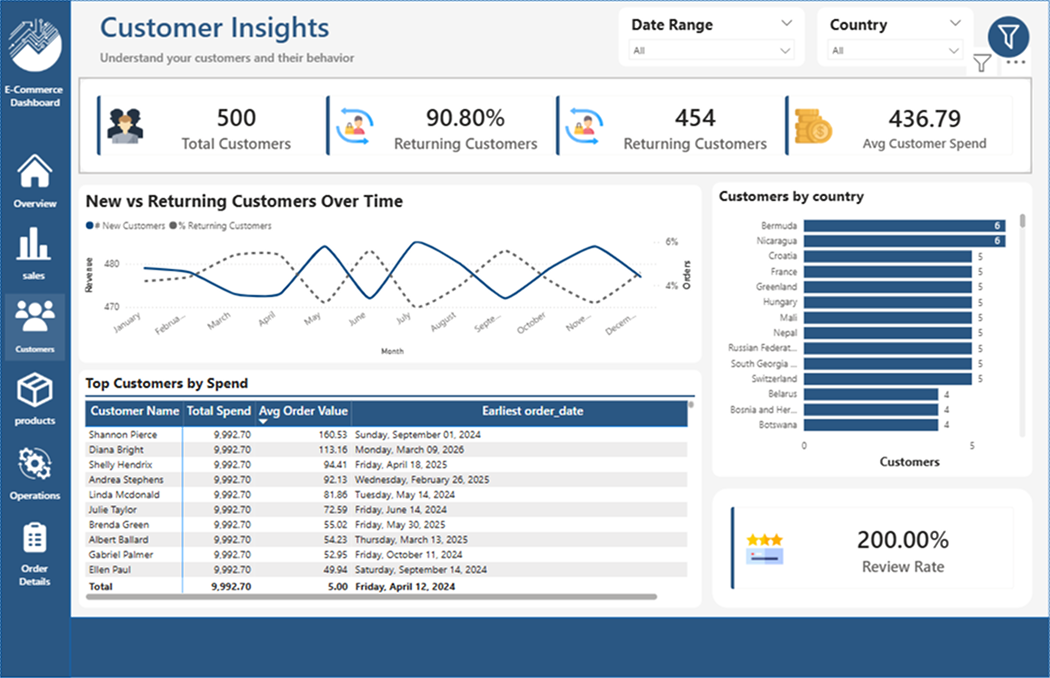

The dashboard page shown, as its layout file describes it:
{"tool":"powerbi","page":{"name":"Customer Insights","canvas":[1400,920],"ordinal":2},"visuals":[{"type":"shape","box":[94,0,1306,824],"z":0},{"type":"image","box":[22.5,492.4,46.7,55.8],"z":0,"group":"g3"},{"type":"image","box":[22.6,590.8,46.7,55.8],"z":0,"group":"g5"},{"type":"image","box":[22.8,688.5,46.7,55.8],"z":0,"group":"g6"},{"type":"textbox","box":[10.8,548.2,70,29.2],"z":1000,"group":"g3"},{"type":"textbox","box":[6.8,647.1,80,29.2],"z":1000,"group":"g5"},{"type":"textbox","box":[12,744,69,51],"z":1000,"group":"g6"},{"type":"shape","box":[94,824,1306,80],"z":1000},{"type":"shape","box":[0,0,94,904],"z":2000},{"type":"lineChart","title":"New vs Returning Customers Over Time","fields":{"Category":["DateTable.Date.Variation.Date Hierarchy.Month"],"Y":["_Measures.# New Customers"],"Y2":["_Measures.% Returning Customers"]},"box":[105,246.7,830,236.7],"z":3000},{"type":"cardVisual","fields":{"Data":["_Measures.# Customers","_Measures.% Returning Customers","_Measures.# Returning Customers","_Measures.Avg Customer Spend"]},"box":[105,103.3,1271.7,128.3],"z":4000},{"type":"cardVisual","fields":{"Data":["_Measures.% Review Rate"]},"box":[950,651.7,426.7,158.3],"z":5000},{"type":"image","box":[12,24,70,74],"z":6000},{"type":"textbox","box":[128.3,5,376.7,71.7],"z":7000},{"type":"pivotTable","title":"Top Customers by Spend","fields":{"Rows":["customers.Customer Name"],"Values":["_Measures.Total Spend","_Measures.Avg Order Value","Min(orders.order_date)"]},"box":[105,493.3,830,316.7],"z":8000},{"type":"textbox","box":[128,60,406,38],"z":9000},{"type":"image","box":[1313.3,21.7,63.3,55],"z":10000},{"type":"textbox","box":[0,104.3,93.5,48.7],"z":11000},{"type":"group","id":"g1","title":"Group 1","box":[11.7,200,70,85],"z":12000},{"type":"group","id":"g2","title":"Group 2","box":[10,297.5,70,85],"z":13000},{"type":"group","id":"g3","title":"Group 4","box":[10.8,492.4,70,85],"z":14000},{"type":"group","id":"g4","title":"Group 2","box":[6.4,392.3,80,90],"z":15000},{"type":"barChart","title":" Customers by country","fields":{"Category":["customers.country"],"Y":["_Measures.# Customers"]},"box":[950,243.3,426.7,391.7],"z":16000},{"type":"slicer","fields":{"Values":["DateTable.Year","DateTable.Month"]},"box":[825,10,248.3,78.3],"z":17000},{"type":"slicer","fields":{"Values":["customers.Customer Name"]},"box":[1090,10,208.3,78.3],"z":18000},{"type":"group","id":"g5","title":"Group 4","box":[6.8,590.8,80,85.4],"z":19000},{"type":"image","box":[23.4,200,46.7,55.8],"z":20000,"group":"g1"},{"type":"group","id":"g6","title":"Group 4","box":[12,688.5,69,106.5],"z":20000},{"type":"textbox","box":[11.7,255.8,70,29.2],"z":21000,"group":"g1"},{"type":"image","box":[21.7,297.5,46.7,55.8],"z":22000,"group":"g2"},{"type":"image","box":[19.7,392.3,53.3,59.1],"z":22000,"group":"g4"},{"type":"textbox","box":[10,353.3,70,29.2],"z":23000,"group":"g2"},{"type":"textbox","box":[6.4,451.4,80,30.9],"z":23000,"group":"g4"}]}

Visuals, with their boxes on the page's 1400x920 design canvas (x1, y1, x2, y2). These are canvas units, not pixel positions in the 1050x678 screenshot, which may show the page scaled, cropped or inside an application window:
shape: bbox=[94, 0, 1400, 824]
image: bbox=[22, 492, 69, 548]
image: bbox=[23, 591, 69, 647]
image: bbox=[23, 688, 70, 744]
textbox: bbox=[11, 548, 81, 577]
textbox: bbox=[7, 647, 87, 676]
textbox: bbox=[12, 744, 81, 795]
shape: bbox=[94, 824, 1400, 904]
shape: bbox=[0, 0, 94, 904]
"New vs Returning Customers Over Time" lineChart: bbox=[105, 247, 935, 483]
cardVisual - _Measures.# Customers x _Measures.% Returning Customers: bbox=[105, 103, 1377, 232]
cardVisual - _Measures.% Review Rate: bbox=[950, 652, 1377, 810]
image: bbox=[12, 24, 82, 98]
textbox: bbox=[128, 5, 505, 77]
"Top Customers by Spend" pivotTable: bbox=[105, 493, 935, 810]
textbox: bbox=[128, 60, 534, 98]
image: bbox=[1313, 22, 1377, 77]
textbox: bbox=[0, 104, 94, 153]
"Group 1" group: bbox=[12, 200, 82, 285]
"Group 2" group: bbox=[10, 298, 80, 382]
"Group 4" group: bbox=[11, 492, 81, 577]
"Group 2" group: bbox=[6, 392, 86, 482]
" Customers by country" barChart: bbox=[950, 243, 1377, 635]
slicer - DateTable.Year x DateTable.Month: bbox=[825, 10, 1073, 88]
slicer - customers.Customer Name: bbox=[1090, 10, 1298, 88]
"Group 4" group: bbox=[7, 591, 87, 676]
image: bbox=[23, 200, 70, 256]
"Group 4" group: bbox=[12, 688, 81, 795]
textbox: bbox=[12, 256, 82, 285]
image: bbox=[22, 298, 68, 353]
image: bbox=[20, 392, 73, 451]
textbox: bbox=[10, 353, 80, 382]
textbox: bbox=[6, 451, 86, 482]
